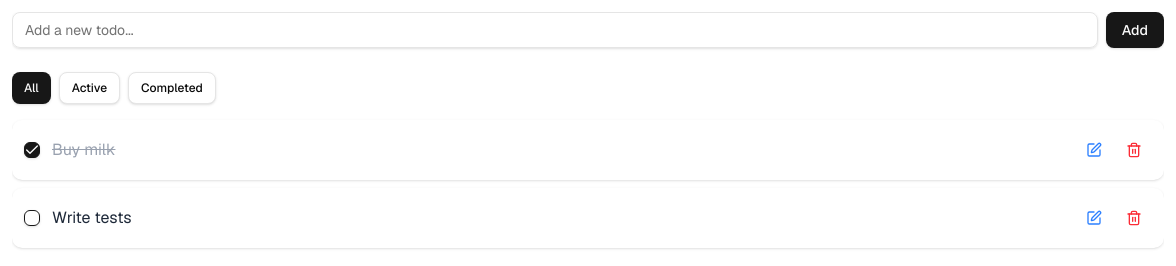
Scenario: Todo List (client composition) › filters: active and completed
Expected: the text "Buy milk" is shown, [52,138,115,162]
Expected: the text "Write tests" is shown, [52,206,132,230]
Click the button "Active".
click(89, 88)  # box [59,72,120,104]
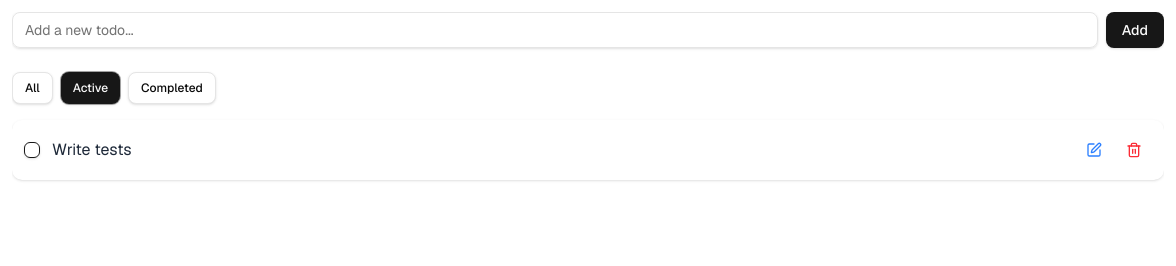
Expected: the text "Write tests" is shown, [52,138,132,162]
Result: the text "Buy milk" is gone
Click the button "Completed".
click(172, 88)  # box [128,72,216,104]
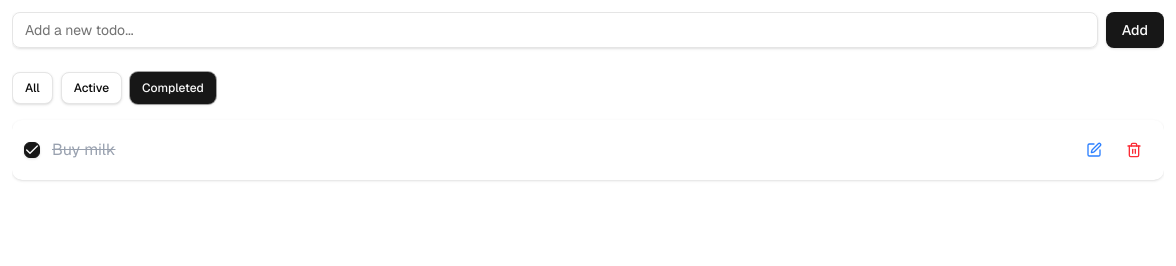
Result: the text "Buy milk" is shown at [52,138,115,162]
Result: the text "Write tests" is gone
